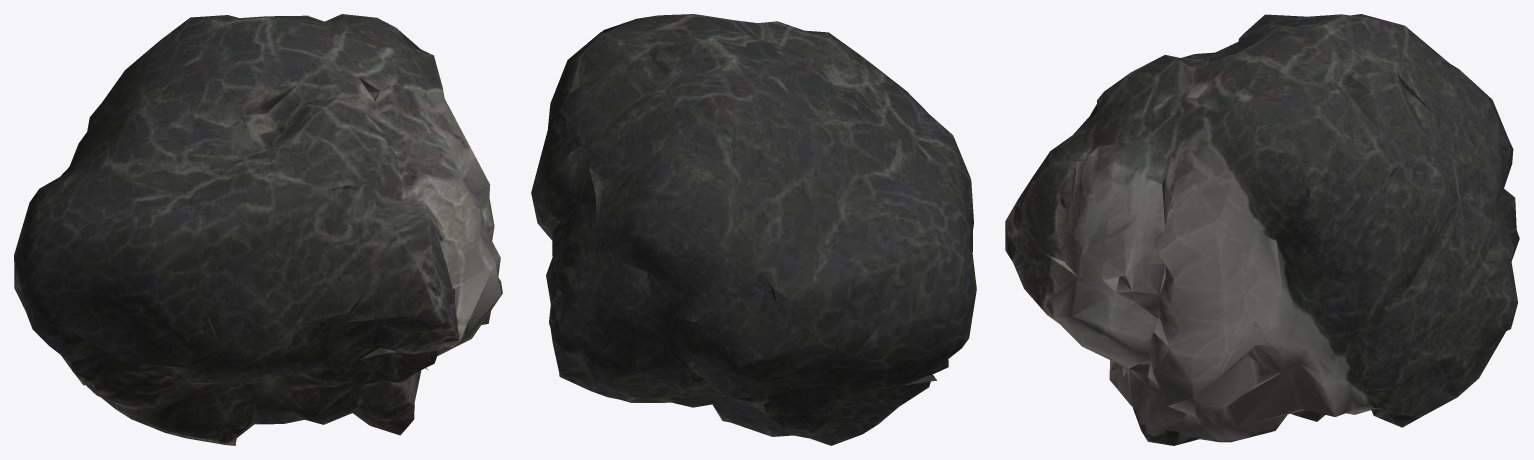
File: ore-nickel.glb
The picture shows the model from 3 angles, left to right: view 1: azimuth 30°, elevation 25°; view 2: azimuth 150°, elevation 25°; view 3: azimuth 270°, elevation 25°; orthographic projection. The views are drawn at different scales.
Visible parts, largest first — view 1: ore-nickel; view 2: ore-nickel; view 3: ore-nickel.
Boxes of the visible parts, x1,y1,x2,y2 form: ore-nickel: (14,14,502,445); ore-nickel: (531,14,976,445); ore-nickel: (1005,14,1519,445).
Bounding box in the file's own units: 1.97 × 1.76 × 2.
1 material, 1 textured.
